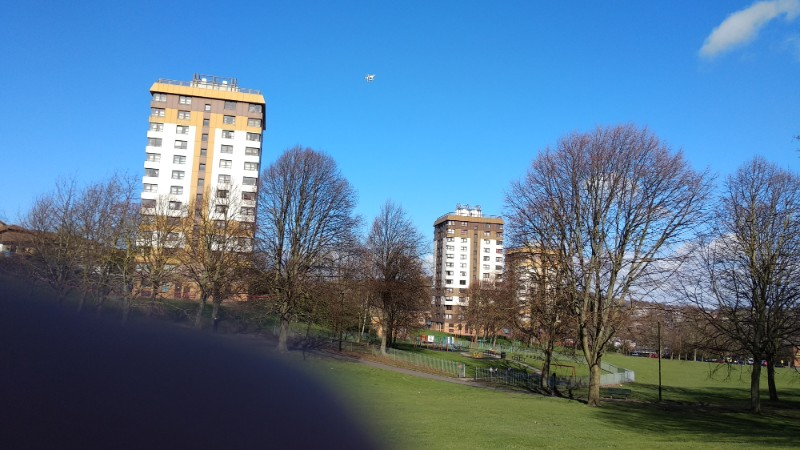drone: (364, 73, 377, 83)
